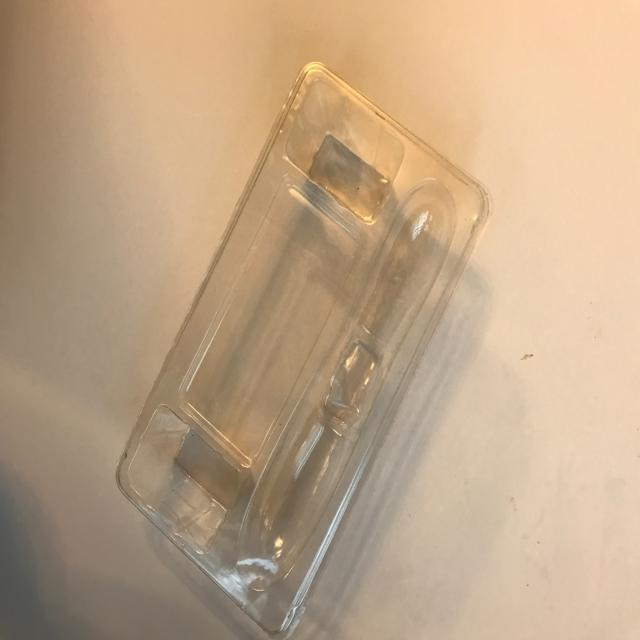plastic: (115, 60, 492, 640)
